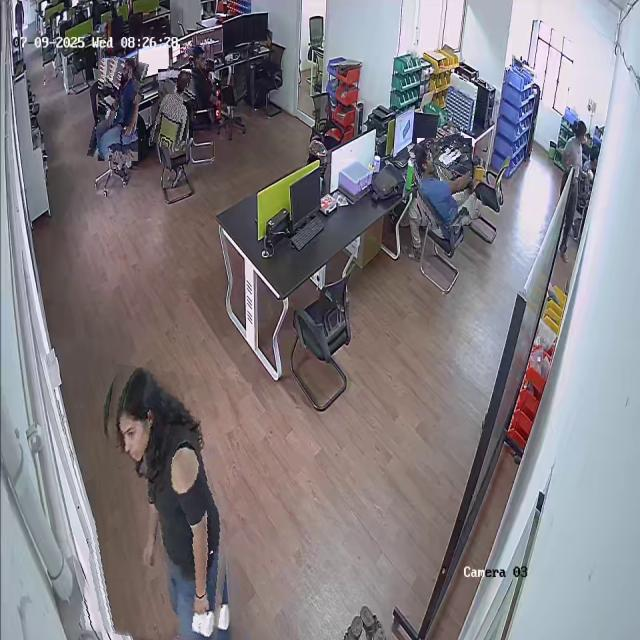person: (87, 368, 243, 640), (412, 135, 477, 229), (93, 57, 144, 162), (154, 67, 197, 149), (190, 45, 217, 108)
